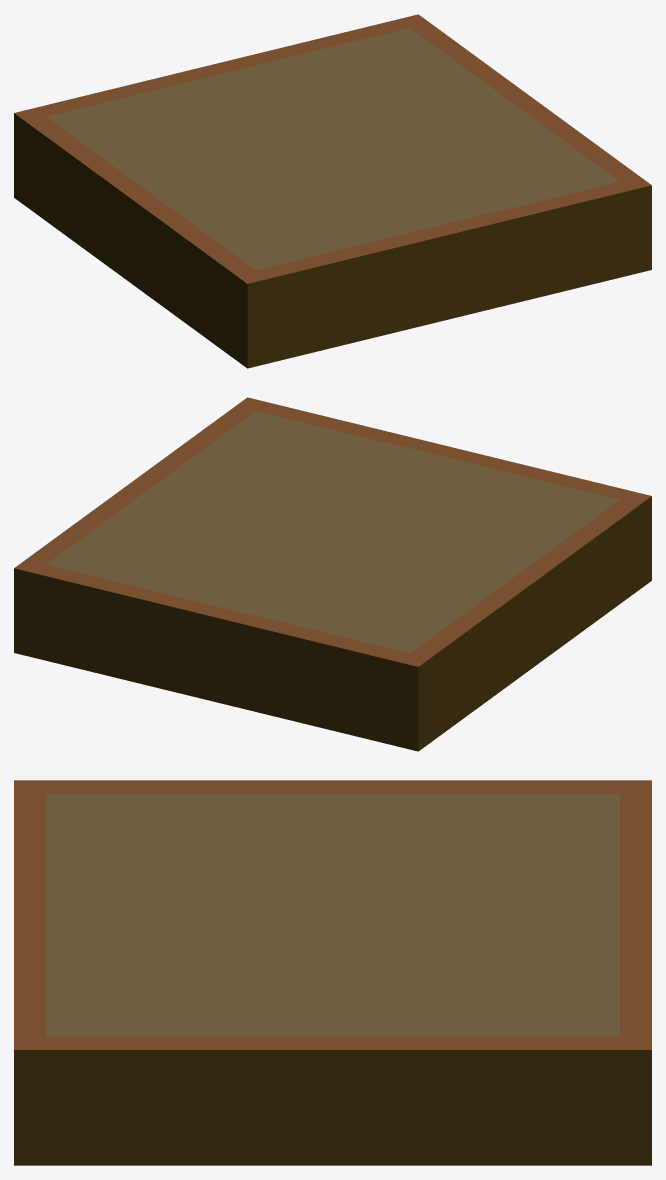
Rendered from floor1.FBX.
The picture shows the model from 3 angles, top to bottom: view 1: azimuth 30°, elevation 25°; view 2: azimuth 150°, elevation 25°; view 3: azimuth 270°, elevation 25°; orthographic projection. The views are drawn at different scales.
Parts seen in each view (by area): view 1: floor1; view 2: floor1; view 3: floor1.
Boxes of the visible parts, <box> form: floor1: <box>14,14,651,368</box>; floor1: <box>14,397,651,751</box>; floor1: <box>14,780,651,1165</box>.
Size of the model in its own units: 100 by 20 by 100.
